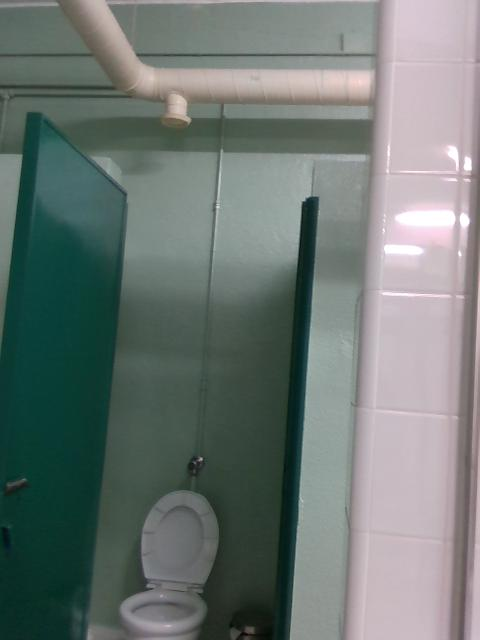open_door: (83, 156, 317, 639)
